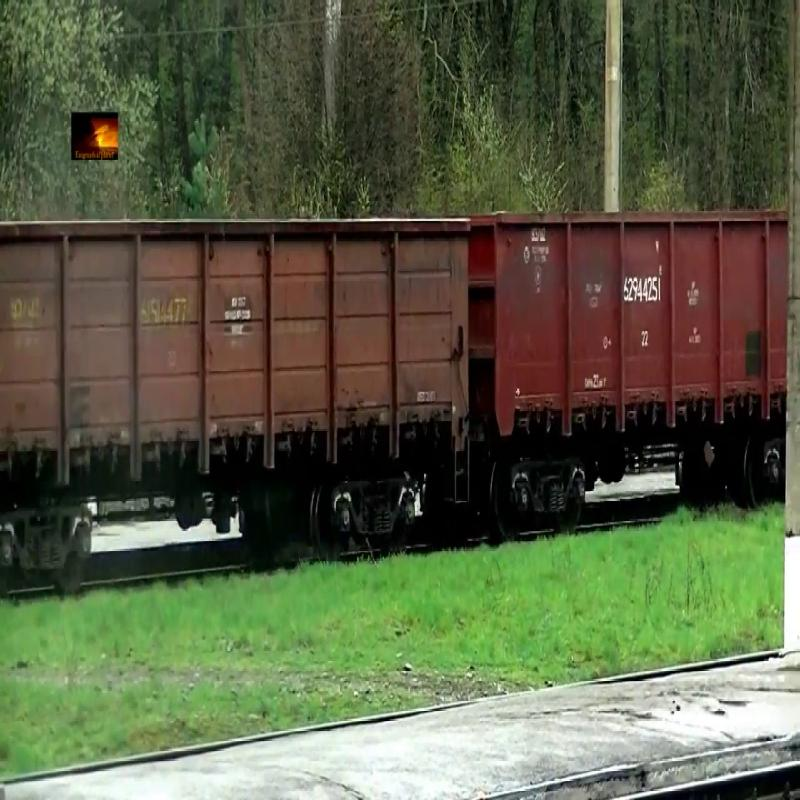train: (1, 217, 473, 493), (472, 215, 789, 448)
